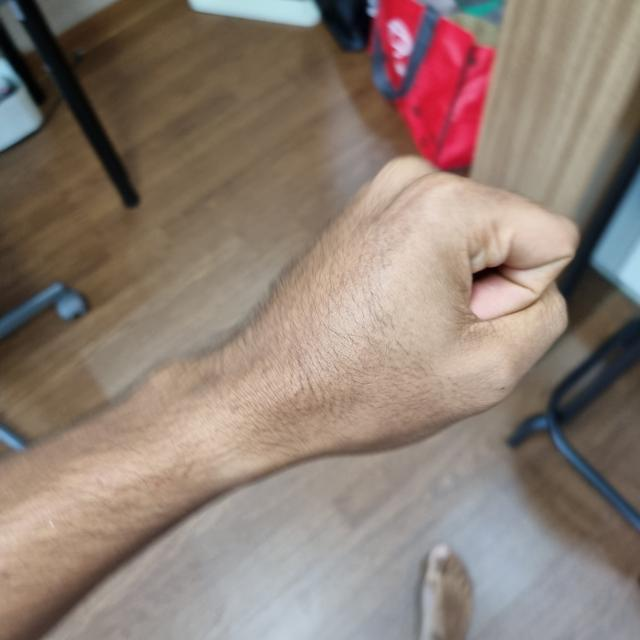Rock: (217, 162, 576, 456)
